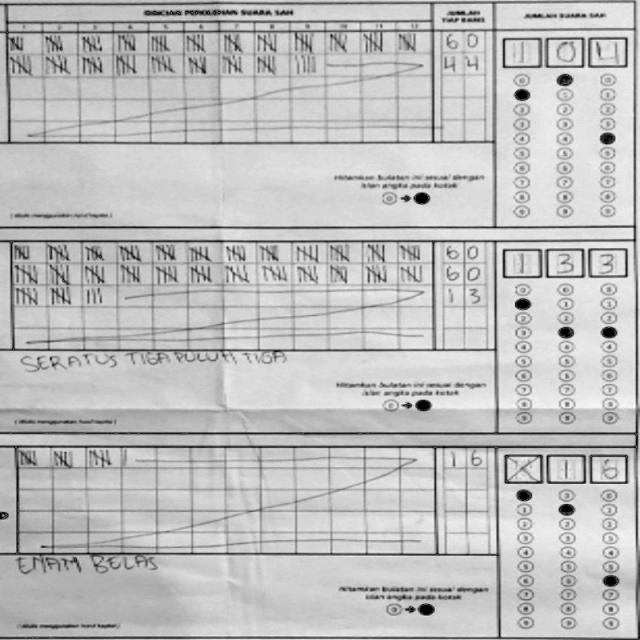Suara: (498, 444, 633, 486), (493, 240, 634, 278), (497, 34, 632, 68)
